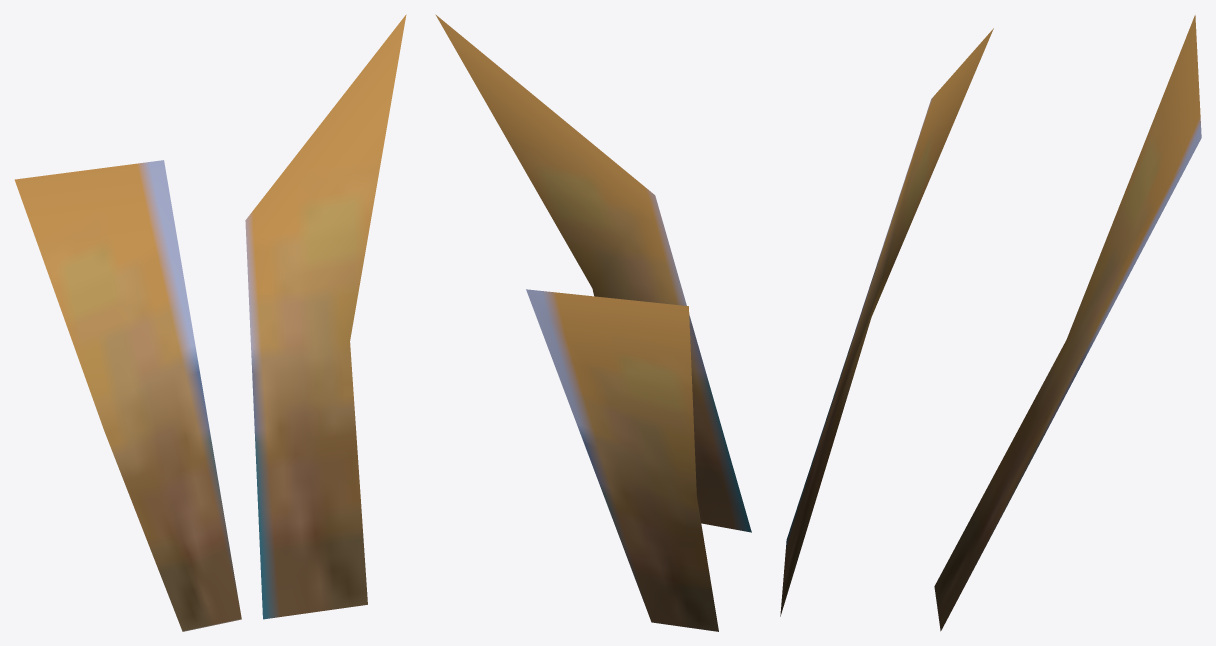
File: fg_grassC.dae
3 views of the same model, side by side, from view 1: azimuth 30°, elevation 25°; view 2: azimuth 150°, elevation 25°; view 3: azimuth 270°, elevation 25° (orthographic). The views are drawn at different scales.
Parts seen in each view (by area): view 1: fg_grassC; view 2: fg_grassC; view 3: fg_grassC.
Part boxes in pixels (x1,y1,x2,y2): fg_grassC: (14, 14, 406, 631); fg_grassC: (435, 14, 751, 631); fg_grassC: (780, 15, 1201, 631).
Bounding box in the file's own units: 14.53 × 23.97 × 12.64.
Materials: 1 (1 with a texture image).
